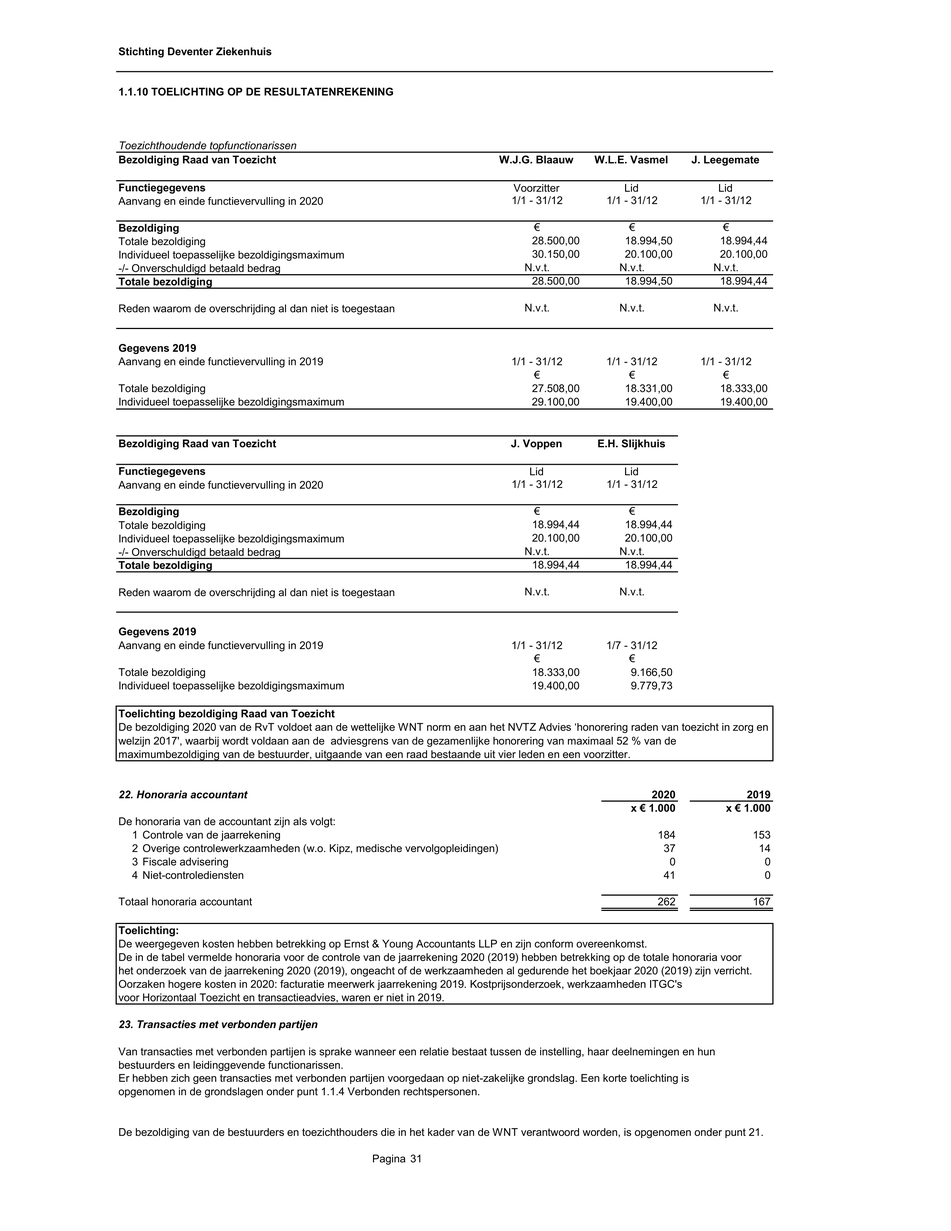coulmn: (109, 152, 440, 700), (491, 152, 584, 700), (591, 153, 679, 705), (684, 150, 776, 413)
